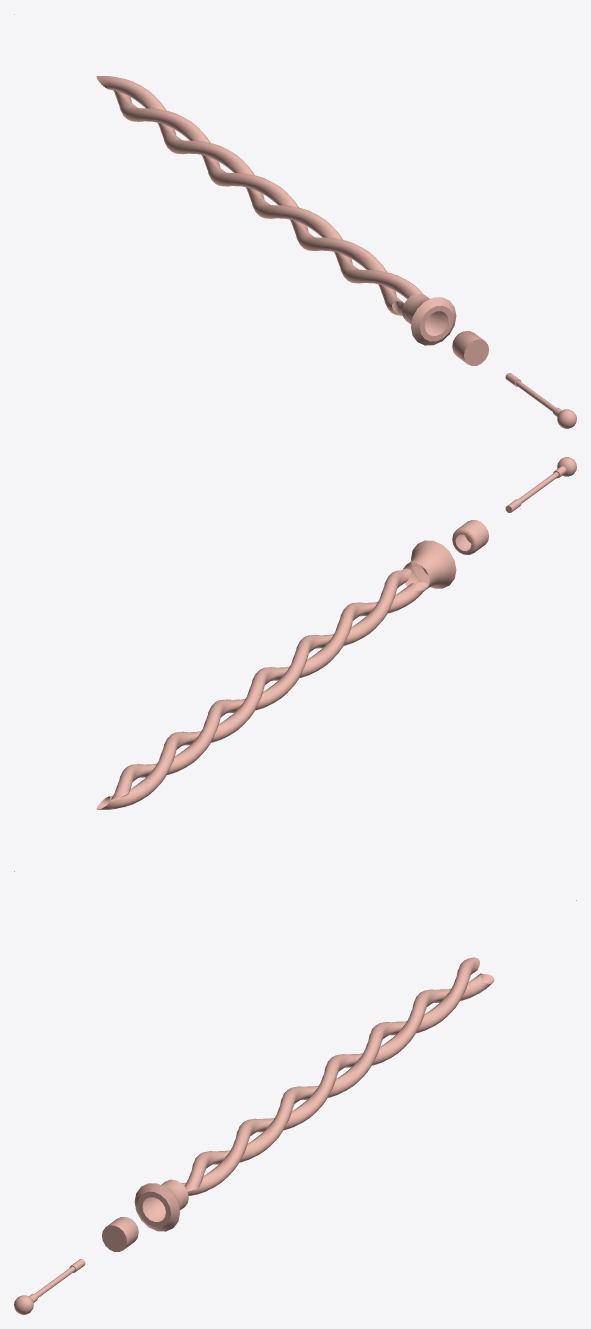
Rendered from MeshFloorLamp_23_0_GeomSubset_0.obj.
The picture shows the model from 3 angles, top to bottom: view 1: azimuth 30°, elevation 25°; view 2: azimuth 150°, elevation 25°; view 3: azimuth 330°, elevation 25°; orthographic projection.
Parts seen in each view (by area): view 1: MeshFloorLamp_23_0_GeomSubset_0; view 2: MeshFloorLamp_23_0_GeomSubset_0; view 3: MeshFloorLamp_23_0_GeomSubset_0.
Part boxes in pixels (x1,y1,x2,y2): MeshFloorLamp_23_0_GeomSubset_0: (14,14,576,428); MeshFloorLamp_23_0_GeomSubset_0: (14,457,576,871); MeshFloorLamp_23_0_GeomSubset_0: (14,900,576,1314).
Size of the model in its own units: 0.0884 by 0.0884 by 1.87.
